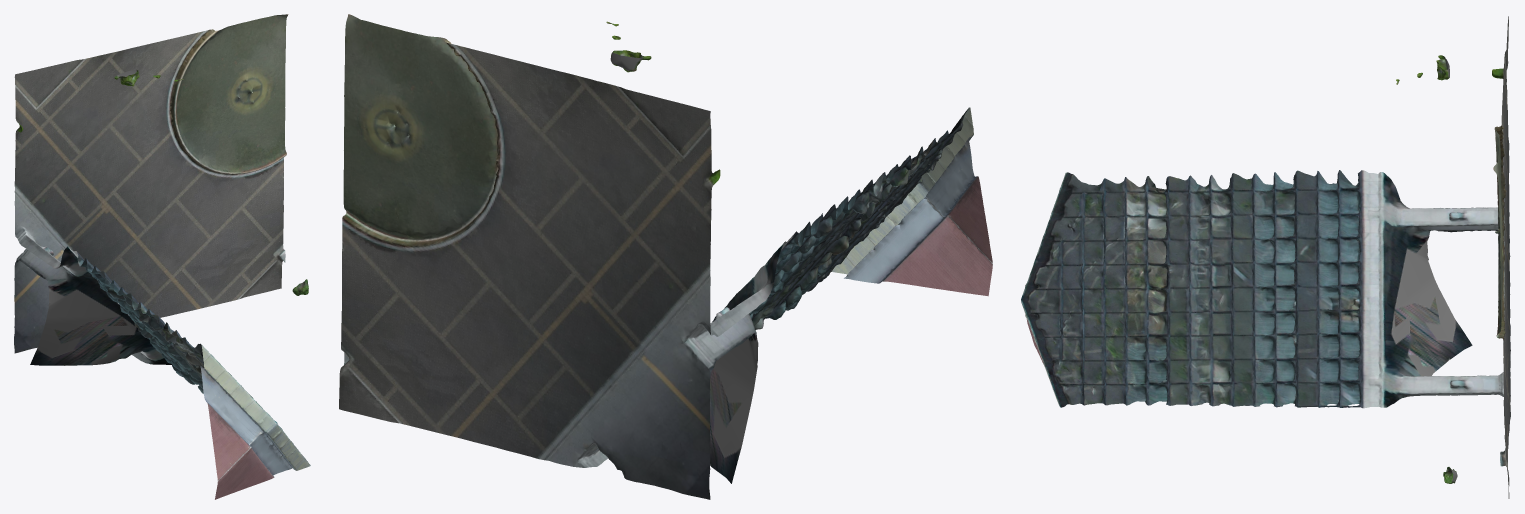
File: Tile_+010_+021.fbx
The picture shows the model from 3 angles, left to right: view 1: azimuth 30°, elevation 25°; view 2: azimuth 150°, elevation 25°; view 3: azimuth 270°, elevation 25°; orthographic projection. The views are drawn at different scales.
Parts seen in each view (by area): view 1: DefaultName; view 2: DefaultName; view 3: DefaultName.
Part boxes in pixels (x1,y1,x2,y2): DefaultName: (14, 14, 310, 499); DefaultName: (339, 14, 992, 499); DefaultName: (1021, 16, 1510, 498).
Bounding box in the file's own units: 22.54 × 22.54 × 30.2.
